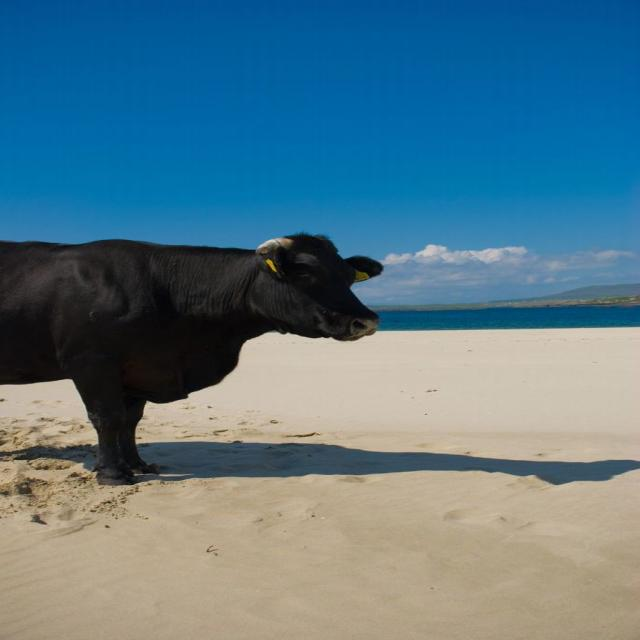Bull: (0, 227, 389, 488)
